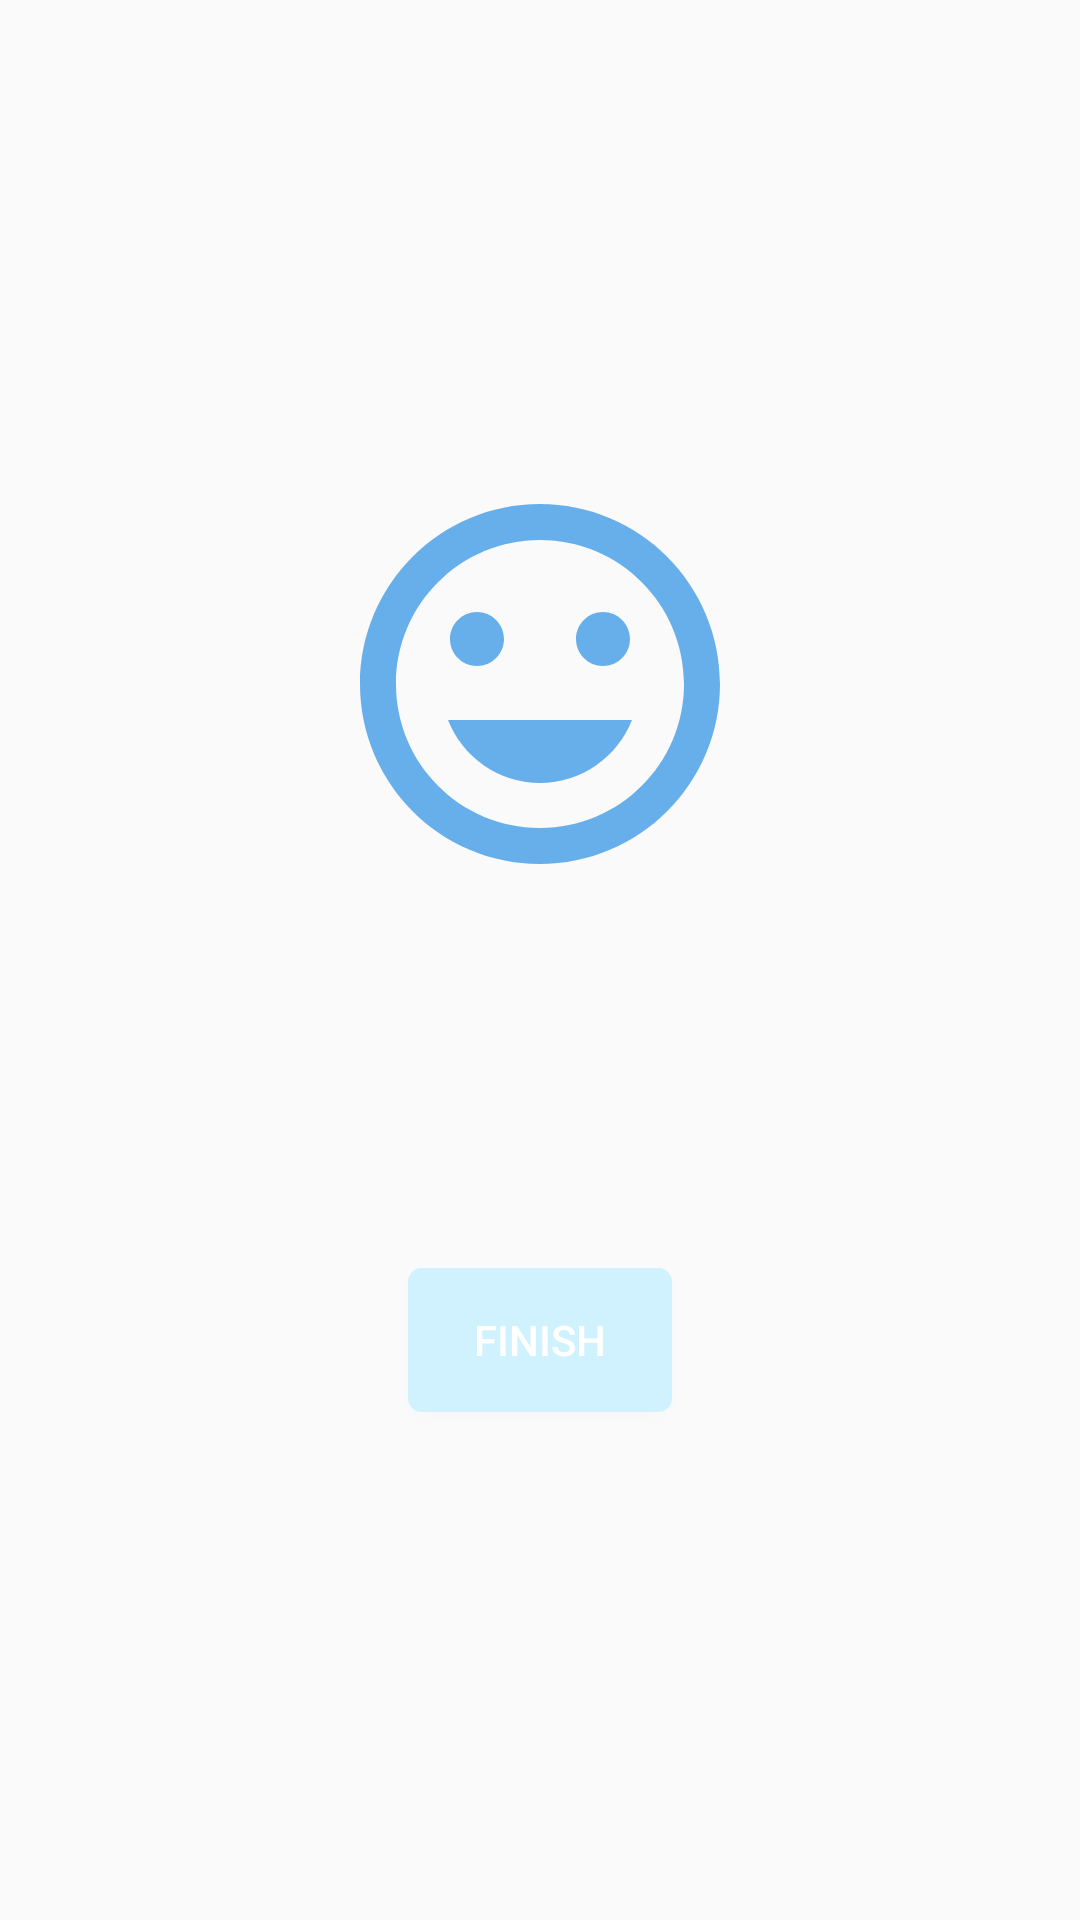

Named icons in this screenshot (1080*1920) and their bounding boxes, (x1, y1, x2, y2):
tag faces: (360, 504, 720, 864)
